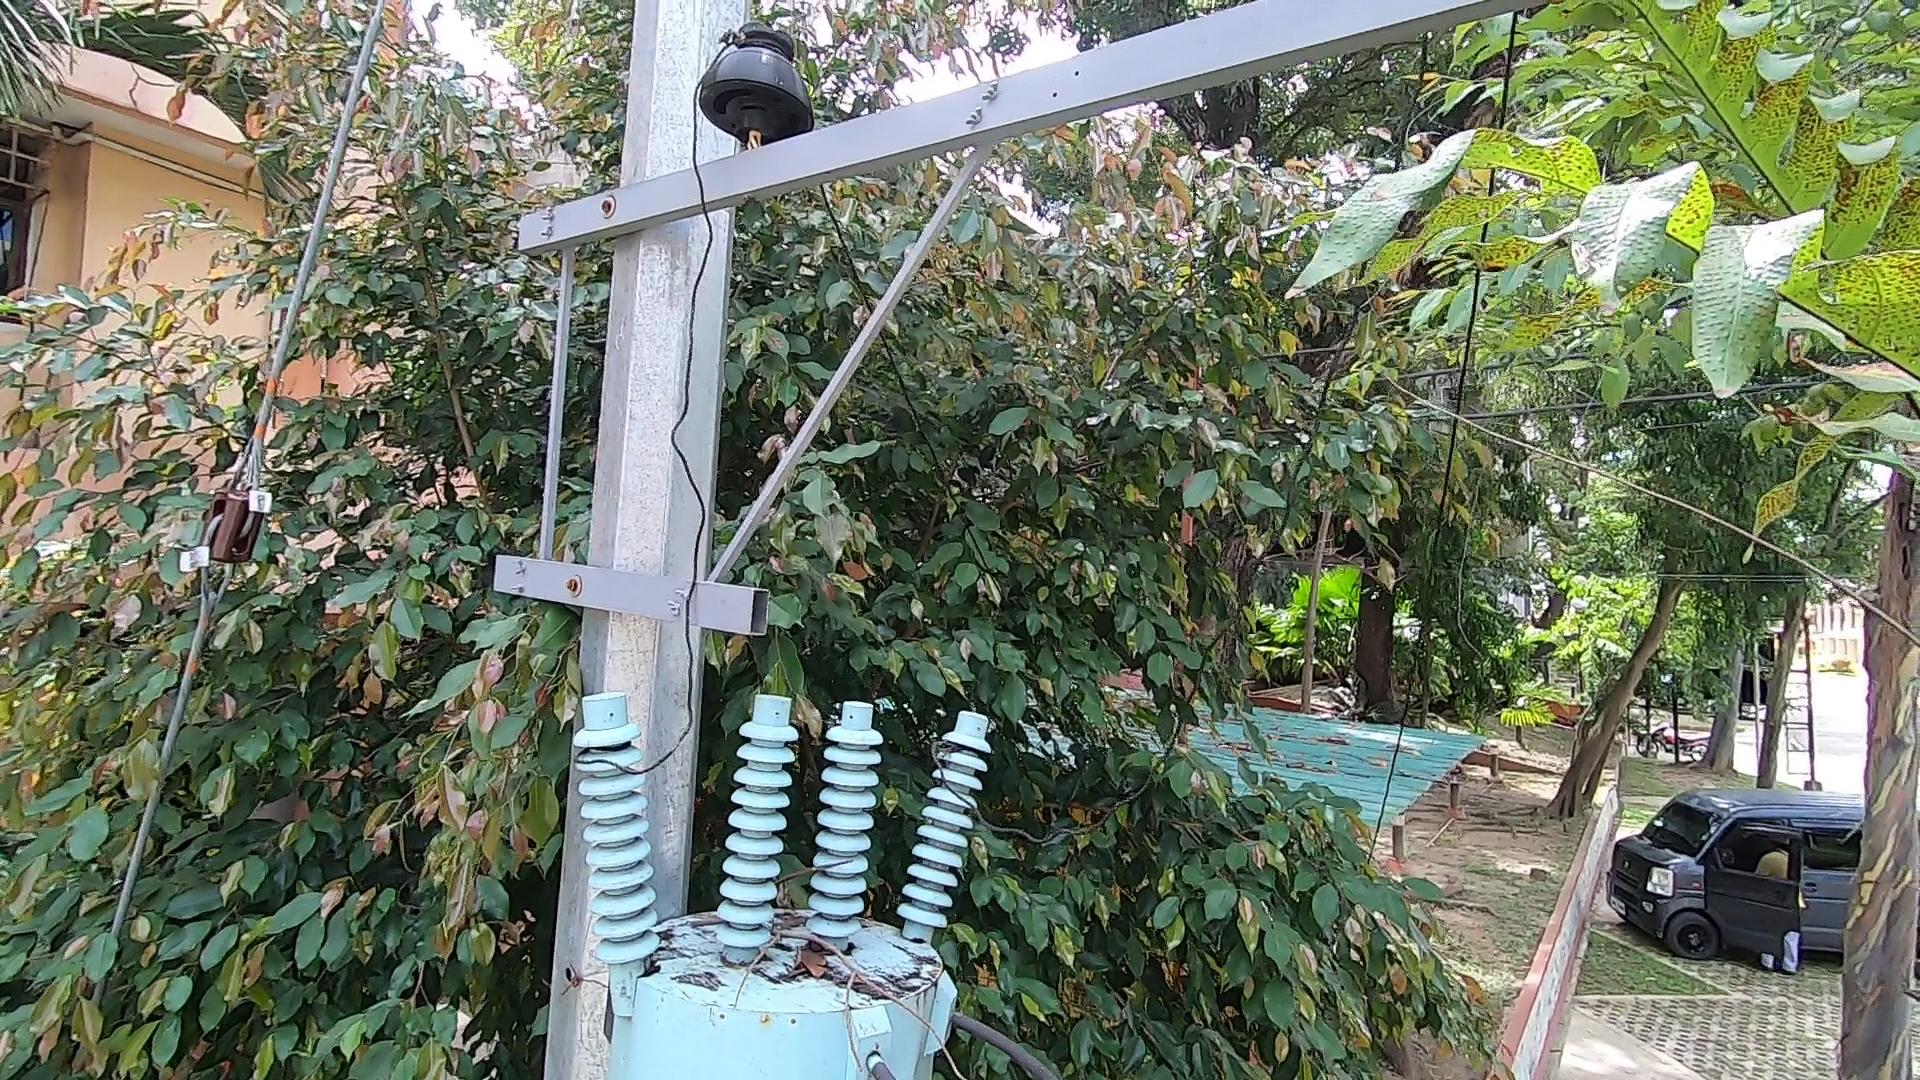leaf: (774, 928, 843, 986)
tree branch: (719, 860, 993, 1080)
